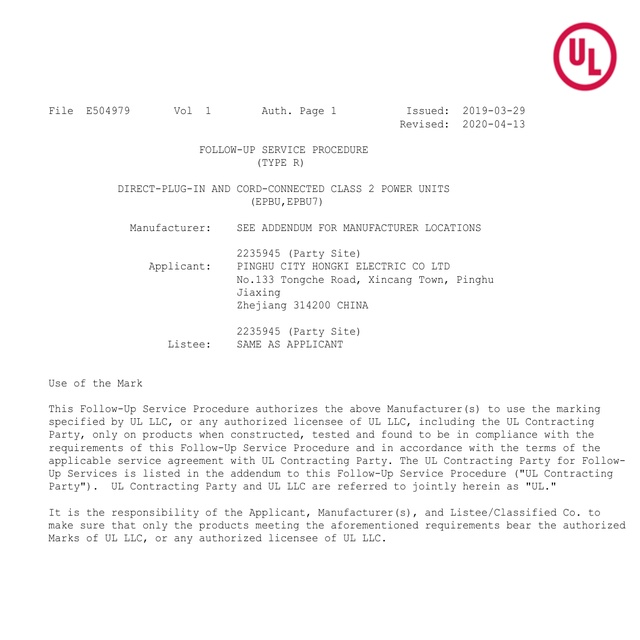ul: (552, 20, 618, 92)
